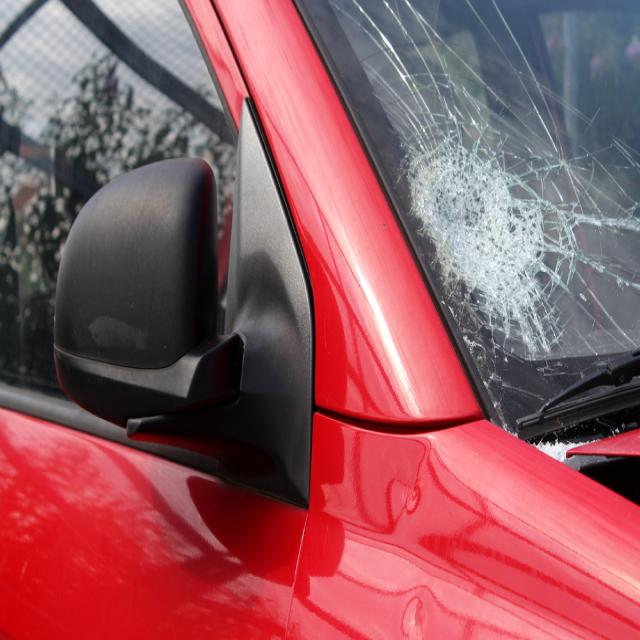Fissure: (324, 0, 640, 428)
